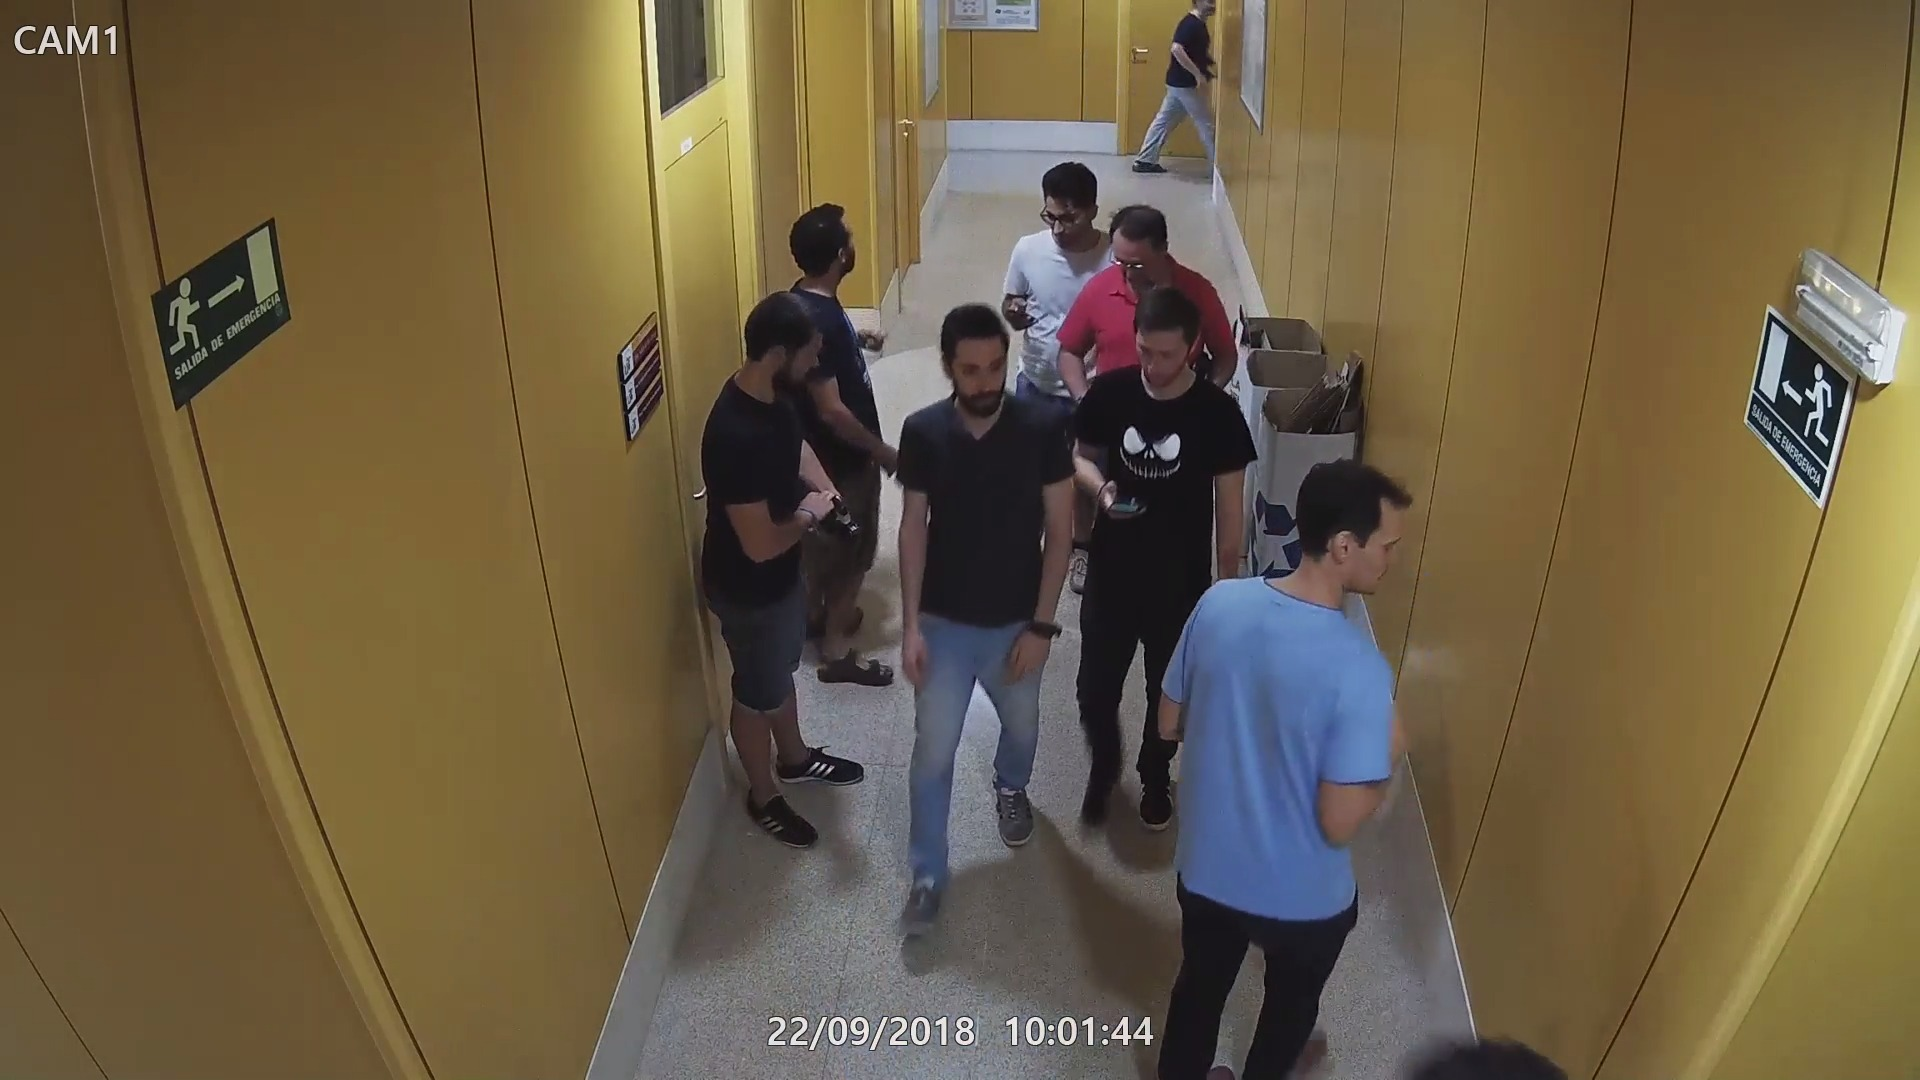Short_rifle: (794, 477, 870, 551)
